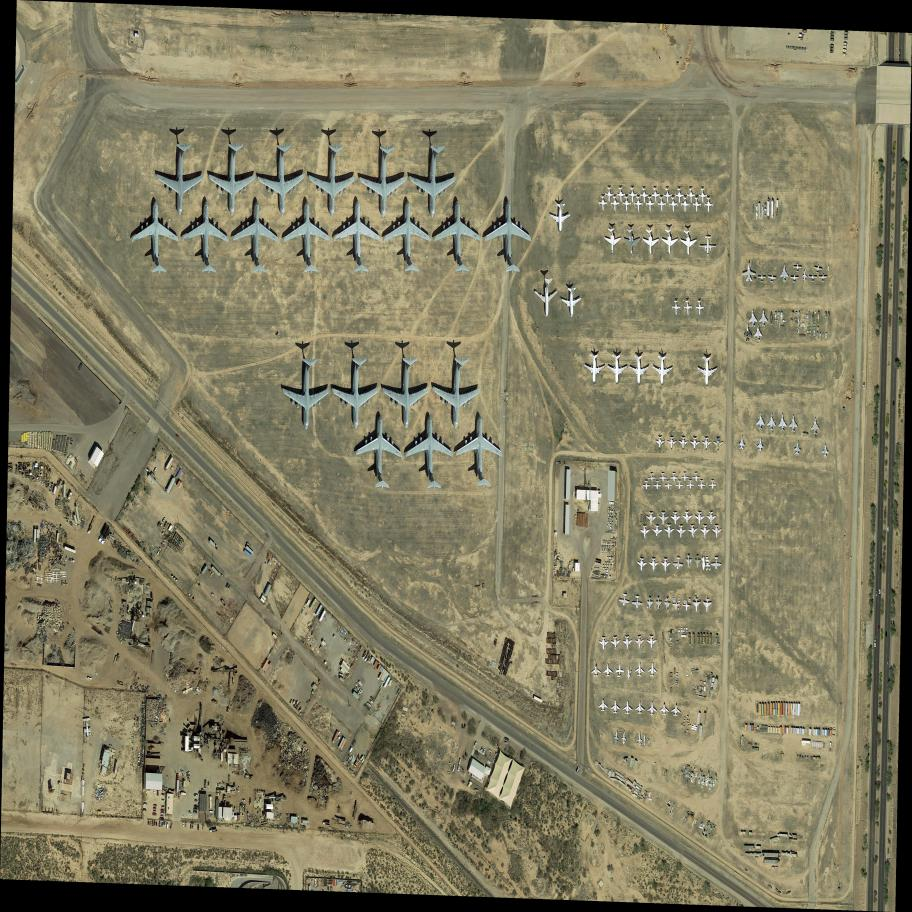large-vehicle: (176, 777, 179, 792), (692, 634, 695, 645), (709, 634, 712, 645), (715, 635, 718, 646), (874, 637, 877, 648), (688, 634, 691, 644), (697, 634, 700, 644), (700, 633, 702, 644), (703, 633, 705, 644), (706, 634, 708, 645)
plane: (353, 412, 406, 491), (330, 355, 383, 433), (379, 355, 432, 432), (404, 414, 455, 493), (155, 140, 205, 220), (483, 197, 534, 275), (207, 143, 258, 221), (358, 143, 409, 220), (231, 199, 282, 276), (431, 356, 483, 431), (432, 197, 483, 273), (257, 143, 308, 219), (281, 357, 331, 433), (332, 197, 382, 273), (308, 143, 358, 219), (180, 198, 230, 274), (130, 198, 180, 274), (409, 143, 458, 220), (382, 198, 432, 273), (455, 414, 504, 489), (283, 199, 331, 274), (533, 277, 559, 319), (583, 353, 606, 385), (651, 354, 673, 387), (549, 203, 571, 234), (561, 287, 582, 318), (697, 356, 718, 387), (607, 355, 628, 385), (629, 355, 649, 386), (622, 228, 641, 256), (641, 229, 660, 256), (603, 227, 621, 255), (679, 230, 697, 256), (661, 229, 678, 255), (699, 234, 717, 258), (741, 258, 756, 282), (82, 717, 92, 742), (617, 592, 631, 608), (755, 411, 766, 431), (766, 412, 777, 432), (635, 557, 648, 573), (687, 522, 699, 539), (788, 413, 798, 433), (792, 438, 803, 456), (651, 524, 663, 540), (677, 436, 689, 452), (639, 524, 651, 540), (647, 662, 659, 678), (610, 635, 622, 651), (743, 323, 753, 342), (748, 309, 758, 328), (759, 308, 768, 329), (702, 597, 713, 614), (647, 700, 658, 717), (645, 511, 657, 526), (710, 556, 722, 571), (672, 556, 684, 571), (780, 263, 789, 283), (778, 412, 787, 432), (737, 433, 747, 451), (711, 523, 722, 539), (706, 511, 717, 527), (670, 511, 681, 527), (658, 511, 669, 527), (634, 662, 645, 678), (634, 634, 645, 650), (811, 416, 820, 435), (692, 197, 702, 214), (628, 187, 638, 204), (622, 196, 632, 213), (610, 196, 620, 213), (631, 595, 643, 609), (676, 524, 687, 539), (700, 524, 711, 539), (694, 511, 705, 526), (713, 437, 724, 452), (664, 524, 675, 539), (622, 635, 633, 650), (646, 635, 657, 650), (648, 558, 659, 573), (666, 436, 677, 451), (622, 700, 633, 715), (634, 700, 645, 715), (671, 702, 682, 717), (754, 324, 763, 342), (682, 511, 692, 527), (671, 300, 681, 316), (695, 300, 705, 316), (686, 188, 696, 204), (663, 188, 673, 204), (651, 188, 661, 204), (616, 187, 626, 203), (701, 437, 712, 451), (690, 437, 701, 451), (598, 698, 609, 712), (660, 558, 671, 572), (659, 702, 670, 716), (615, 662, 624, 679), (692, 596, 701, 613), (683, 299, 692, 316), (698, 188, 707, 205), (681, 197, 690, 214), (675, 188, 684, 205), (657, 196, 666, 213), (605, 187, 614, 204), (599, 195, 608, 212), (599, 636, 609, 651), (682, 598, 692, 613), (655, 435, 665, 450), (611, 699, 621, 714), (704, 197, 713, 213), (669, 197, 678, 213), (646, 197, 655, 213), (640, 188, 649, 204), (812, 263, 824, 275), (756, 436, 765, 452), (821, 442, 830, 458), (591, 664, 602, 677), (603, 663, 613, 677), (634, 197, 643, 212), (766, 272, 777, 284), (672, 598, 681, 612), (801, 267, 809, 282), (664, 478, 673, 491), (663, 597, 671, 611), (757, 271, 766, 283), (621, 730, 628, 745), (613, 729, 620, 744), (818, 273, 828, 283), (697, 479, 706, 490), (642, 480, 651, 491), (790, 273, 799, 284), (655, 596, 662, 610), (694, 555, 701, 569), (637, 731, 643, 747), (692, 472, 701, 482), (686, 480, 695, 490), (808, 273, 817, 283), (793, 263, 802, 273), (709, 479, 717, 490), (659, 472, 667, 483), (647, 597, 653, 611), (686, 555, 692, 569), (681, 472, 689, 482), (675, 480, 683, 490), (670, 472, 678, 482), (653, 480, 661, 490), (648, 472, 656, 482)
small-vehicle: (364, 652, 370, 662), (188, 810, 194, 818), (161, 517, 167, 524), (152, 467, 158, 474), (366, 702, 372, 708), (575, 766, 580, 773), (225, 582, 230, 589), (504, 736, 510, 741), (473, 741, 478, 747), (227, 584, 232, 590), (457, 765, 461, 772), (463, 723, 467, 729), (482, 748, 486, 754), (181, 792, 187, 796), (875, 590, 878, 597), (152, 812, 157, 816), (339, 673, 344, 677), (175, 434, 180, 438), (193, 807, 198, 811), (461, 723, 464, 729), (480, 746, 483, 752), (197, 824, 200, 830), (202, 824, 205, 830), (237, 786, 240, 792), (193, 811, 199, 814), (143, 808, 147, 812), (153, 803, 157, 807), (161, 798, 165, 802), (161, 808, 165, 812), (242, 798, 246, 802), (504, 741, 509, 744), (153, 790, 156, 795), (160, 812, 165, 815), (194, 794, 199, 797), (880, 563, 882, 570), (886, 631, 888, 638), (162, 792, 165, 796), (143, 803, 147, 806), (153, 810, 157, 813), (153, 807, 157, 810), (152, 820, 154, 826), (154, 820, 156, 826), (159, 821, 161, 827), (161, 822, 163, 828), (899, 50, 901, 56), (863, 383, 865, 389), (893, 400, 895, 406), (887, 526, 889, 532), (879, 589, 881, 595), (887, 659, 889, 665), (163, 821, 166, 825), (166, 823, 168, 829), (192, 824, 194, 830), (194, 805, 198, 808), (194, 800, 198, 803), (138, 762, 140, 768), (138, 752, 140, 758), (157, 791, 159, 796), (165, 821, 167, 826), (159, 817, 164, 819), (156, 821, 158, 826), (878, 626, 880, 631), (190, 824, 192, 829), (138, 758, 140, 763), (150, 822, 152, 826), (185, 823, 187, 827), (889, 492, 890, 499), (162, 806, 165, 808), (160, 815, 163, 817), (148, 821, 149, 825), (183, 823, 184, 827)
